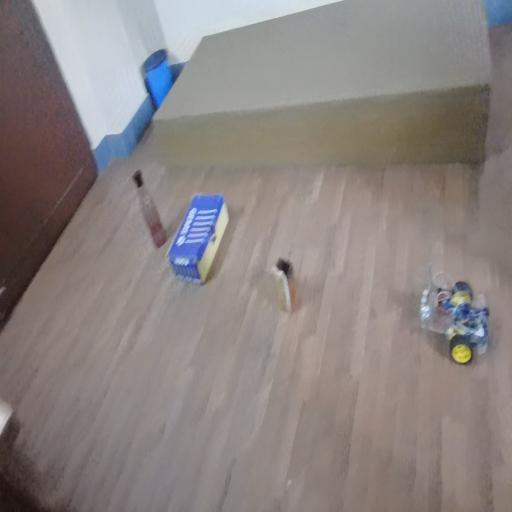Bottle: (128, 119, 189, 251)
car: (418, 255, 480, 369)
